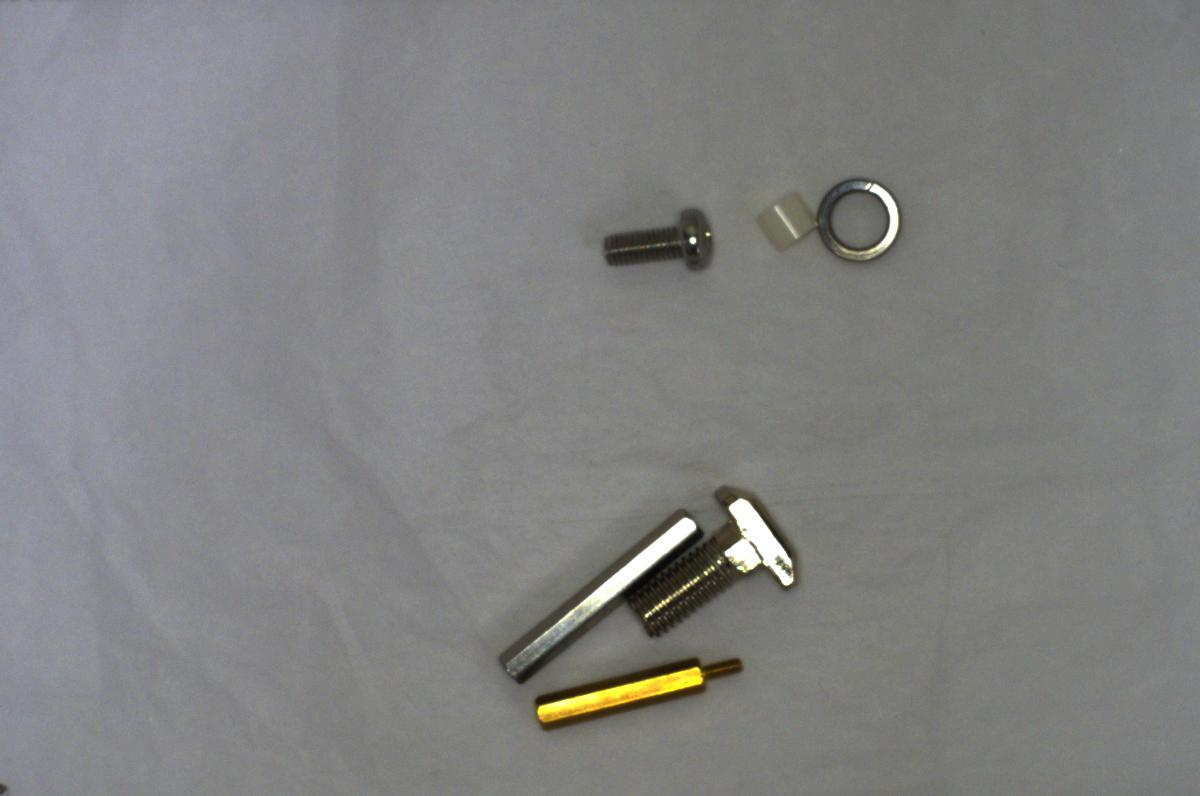Double hexagonal column: (488, 507, 694, 681)
Hexagon pillar: (521, 649, 750, 736)
Plastic cushion pillar: (754, 187, 826, 254)
Round head screw: (593, 200, 725, 272)
Spring washer: (808, 172, 910, 263)
